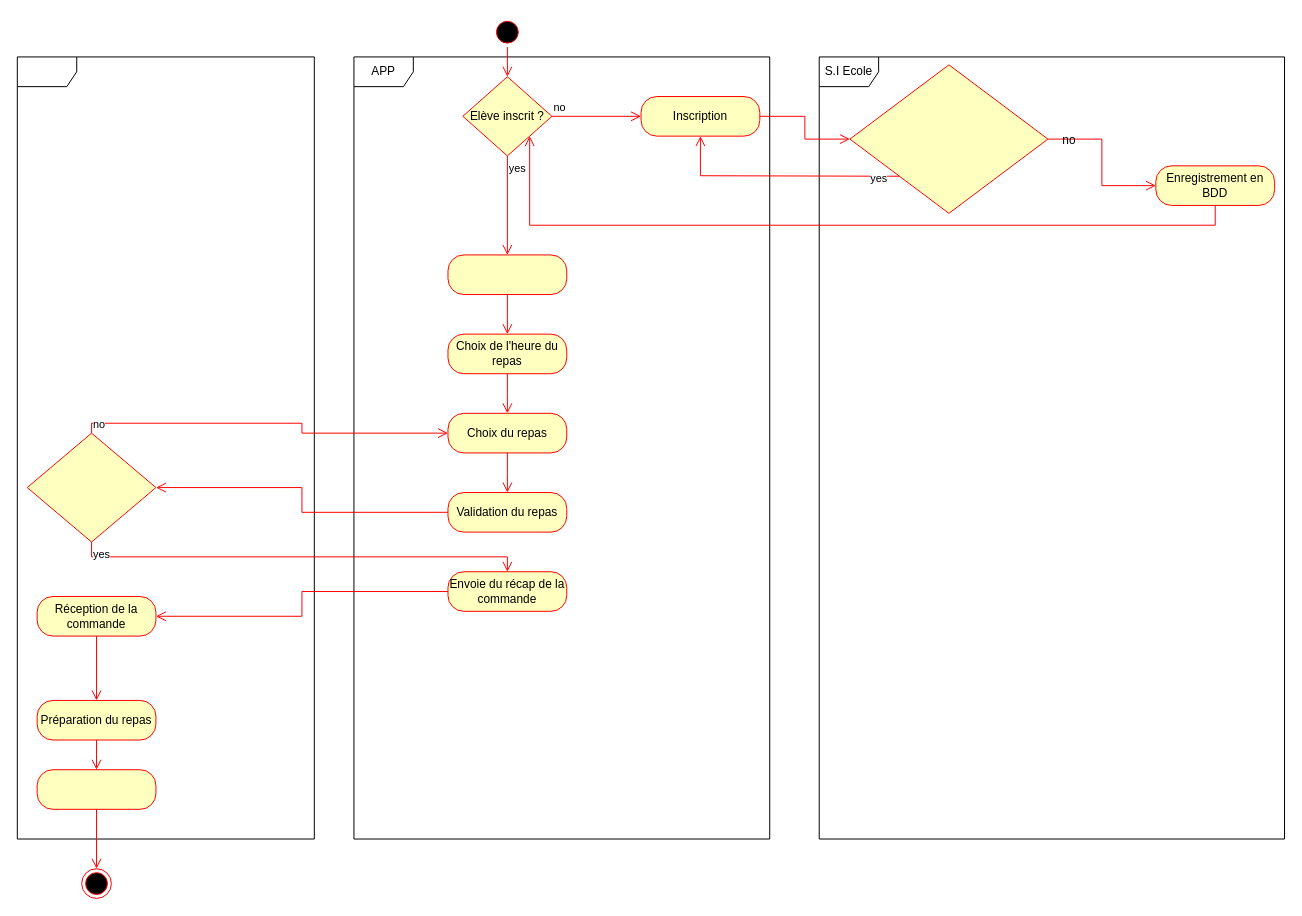
The diagram is 1302 pixels wide and 916 high, and some of its shapes have lost their labels. Each missing label, with the box of its shape:
Consulter le menu: (447, 254, 567, 295)
Cuisine: (16, 56, 314, 839)
Informations non valides ? Ou déjà en BDD ?: (849, 64, 1048, 213)
Ingrédients en stock ?: (26, 432, 156, 542)
Service du repas: (36, 769, 156, 809)
